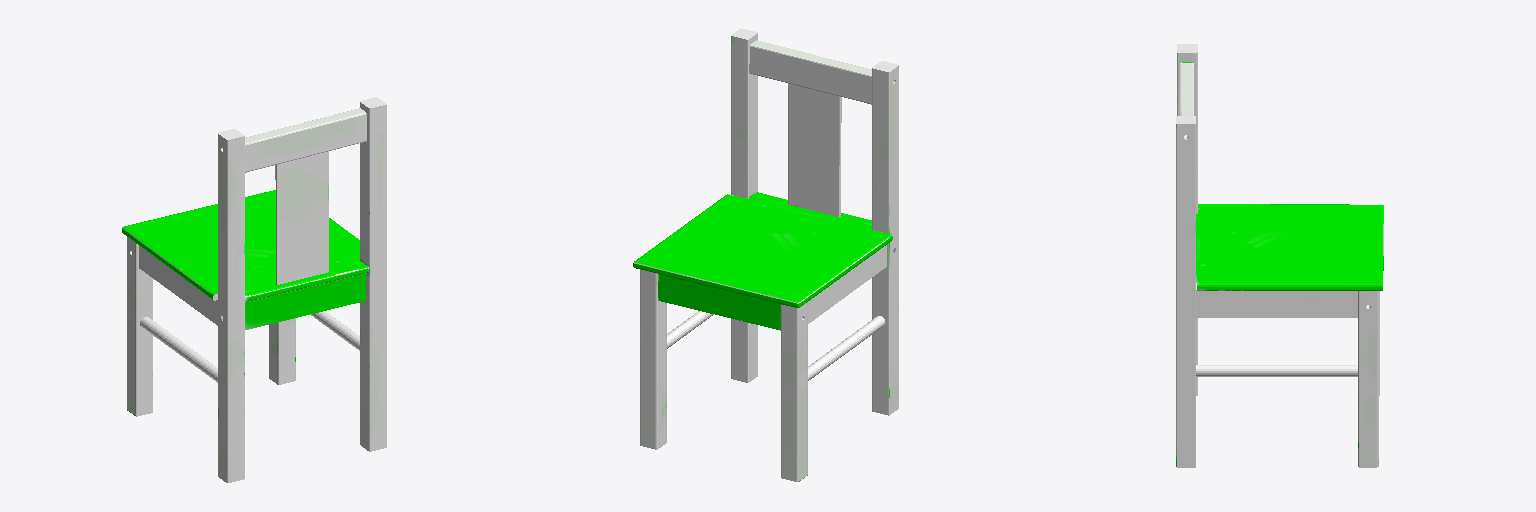
3 renders of one model, left to right at view 1: azimuth 30°, elevation 25°; view 2: azimuth 150°, elevation 25°; view 3: azimuth 270°, elevation 25°, orthographic.
Visible parts, largest first — view 1: left_bakben; view 2: left_bakben; view 3: left_bakben.
Boxes of the visible parts, box(x1,y1,x2,y2) form: left_bakben: box(122, 97, 386, 482); left_bakben: box(633, 28, 898, 481); left_bakben: box(1176, 44, 1383, 467).
Bounding box in the file's own units: 10.68 × 21.09 × 11.52.
1 materials, 1 textured.